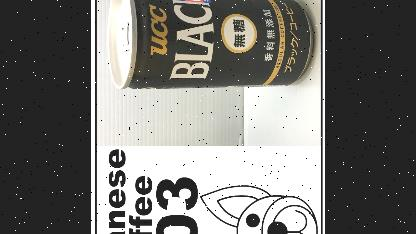Can: (109, 0, 312, 87)
